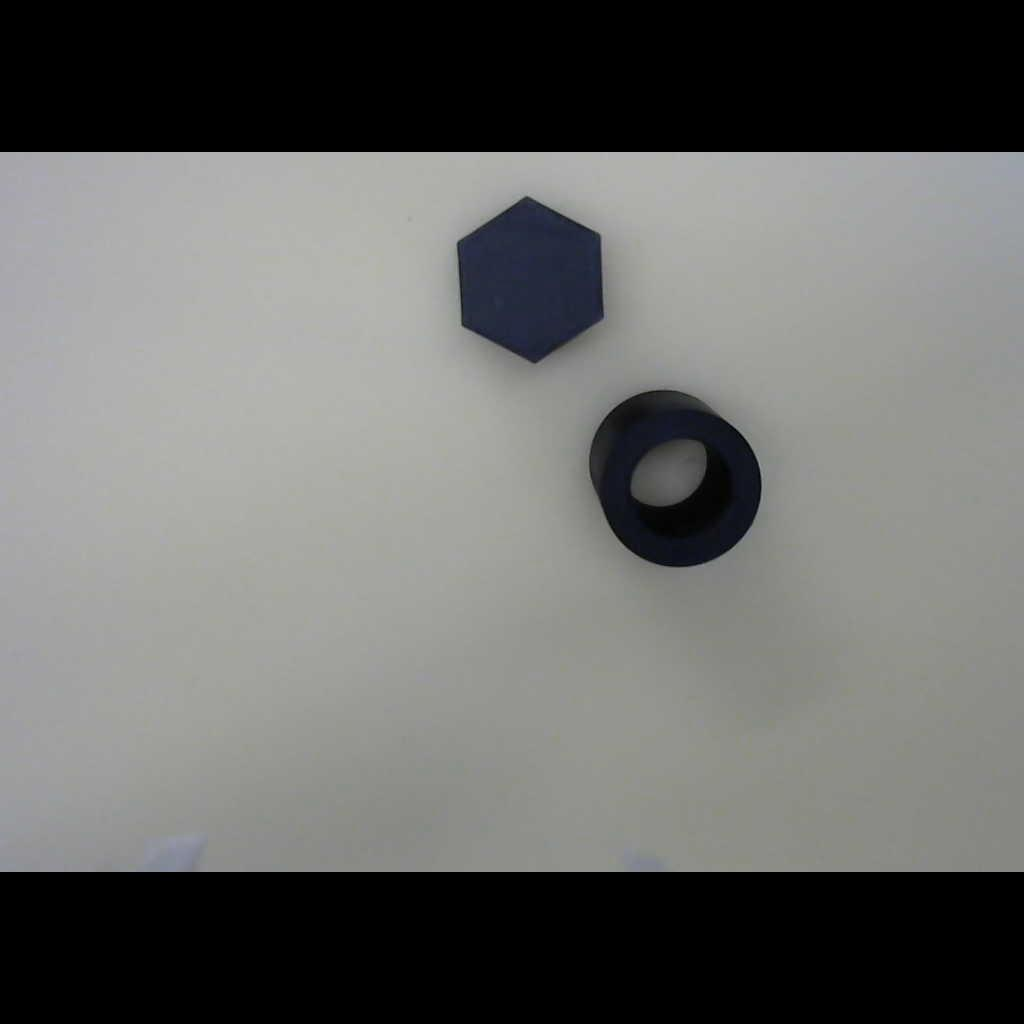hexagon: (434, 181, 621, 379)
ring: (572, 378, 782, 578)
